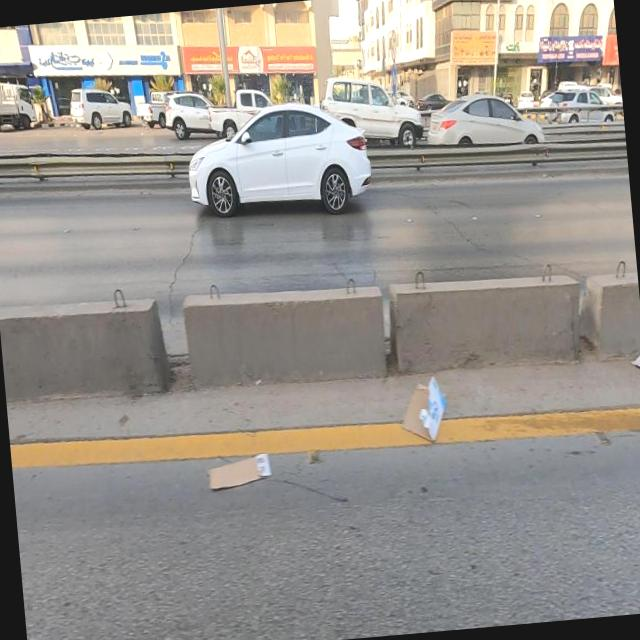debris: (142, 370, 336, 574), (342, 302, 518, 510), (418, 0, 531, 95)
